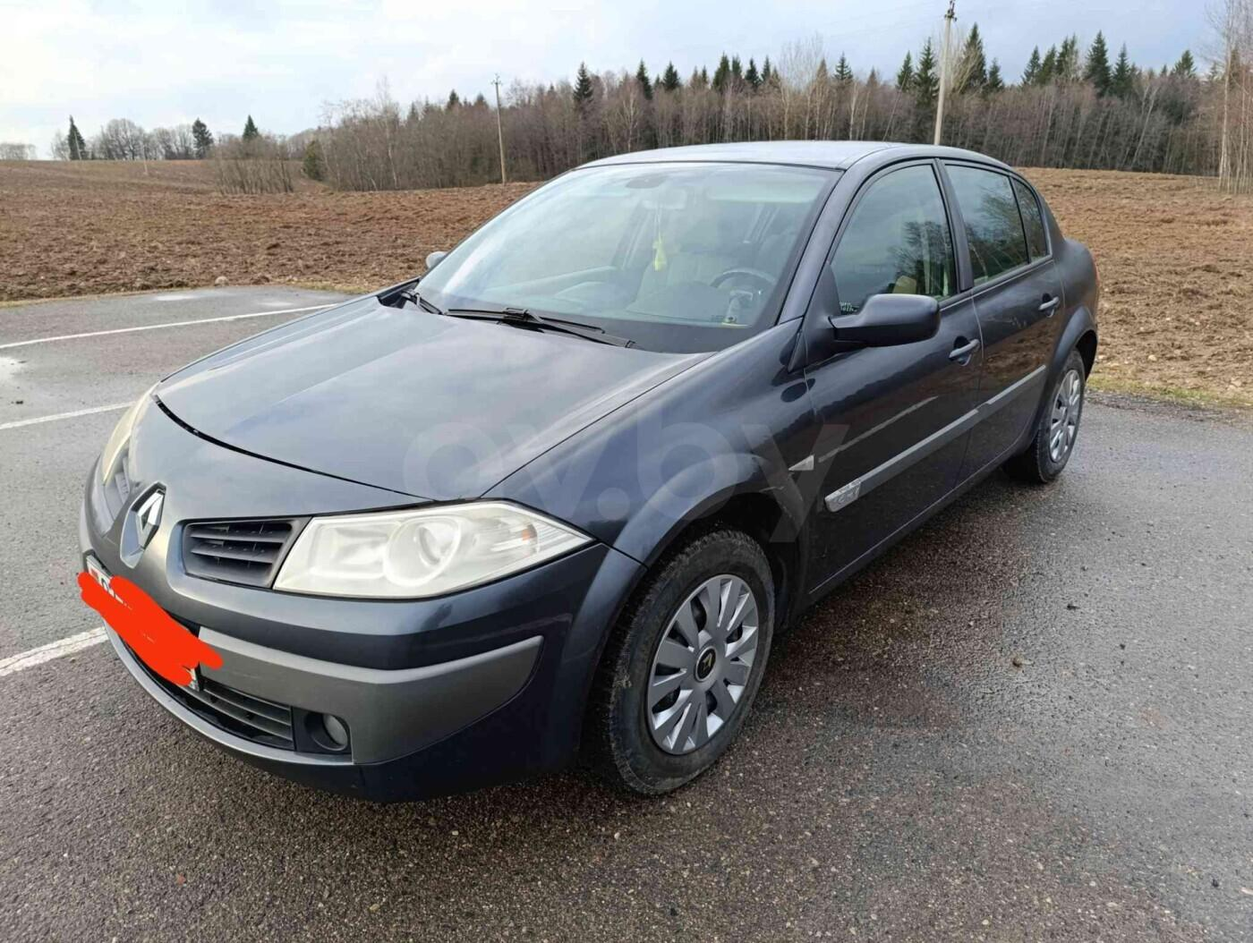Megane_2005-2009: (65, 130, 1119, 809)
